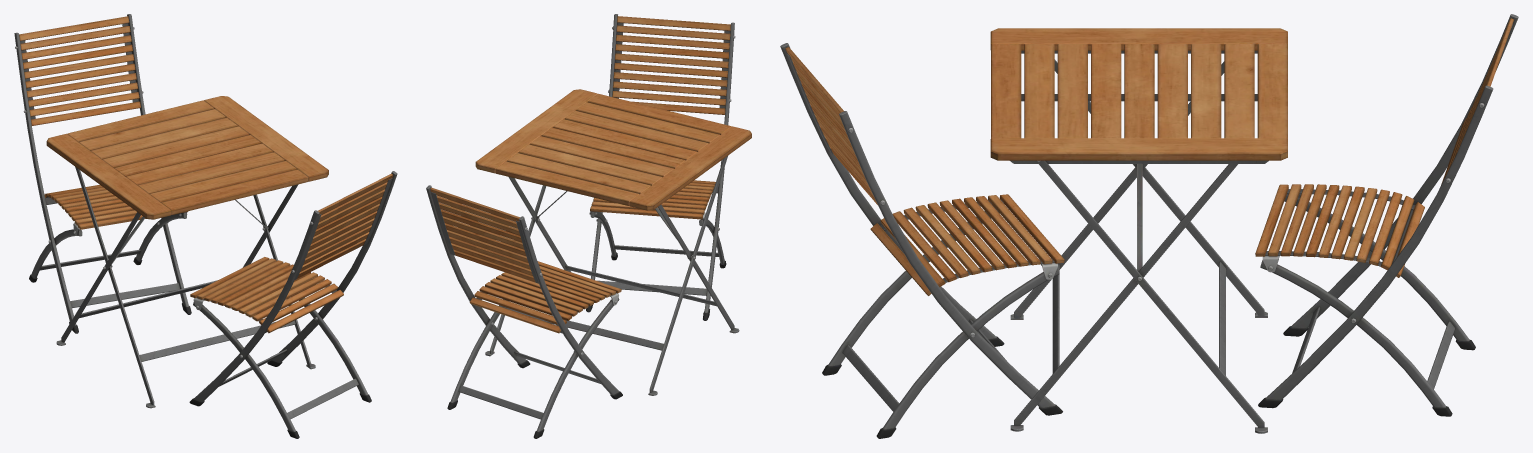
Rendered from cafe_set.glb.
3 renders of one model, left to right at view 1: azimuth 30°, elevation 25°; view 2: azimuth 150°, elevation 25°; view 3: azimuth 270°, elevation 25°, orthographic. The views are drawn at different scales.
Parts seen in each view (by area): view 1: outdoor_table_chair_set_01_table, outdoor_table_chair_set_01_chair_02, outdoor_table_chair_set_01_chair_01; view 2: outdoor_table_chair_set_01_table, outdoor_table_chair_set_01_chair_02, outdoor_table_chair_set_01_chair_01; view 3: outdoor_table_chair_set_01_table, outdoor_table_chair_set_01_chair_01, outdoor_table_chair_set_01_chair_02.
Part boxes in pixels (bbox=[...]): outdoor_table_chair_set_01_table: bbox=[46, 96, 328, 408]; outdoor_table_chair_set_01_chair_02: bbox=[14, 14, 191, 333]; outdoor_table_chair_set_01_chair_01: bbox=[189, 171, 397, 438]; outdoor_table_chair_set_01_table: bbox=[475, 89, 751, 395]; outdoor_table_chair_set_01_chair_02: bbox=[426, 185, 622, 438]; outdoor_table_chair_set_01_chair_01: bbox=[586, 14, 735, 320]; outdoor_table_chair_set_01_table: bbox=[990, 28, 1287, 433]; outdoor_table_chair_set_01_chair_01: bbox=[780, 43, 1064, 438]; outdoor_table_chair_set_01_chair_02: bbox=[1255, 14, 1518, 416].
Bounding box in the file's own units: 0.7417 × 0.8586 × 1.72.
2 materials, 2 textured.
